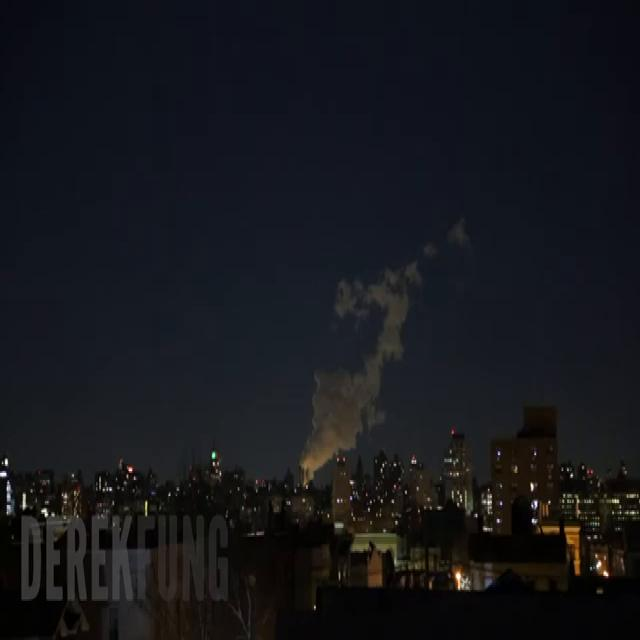smoke: (300, 261, 421, 476)
